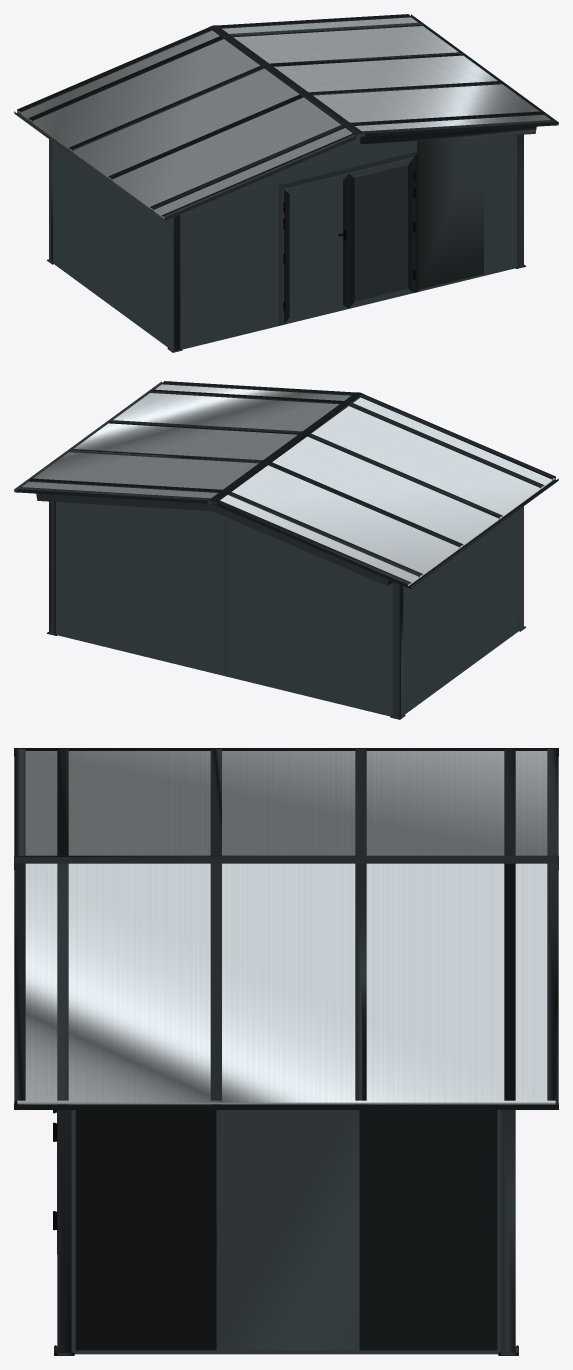
3 views of the same model, one above another, from view 1: azimuth 30°, elevation 25°; view 2: azimuth 150°, elevation 25°; view 3: azimuth 270°, elevation 25° (orthographic). The views are drawn at different scales.
Parts seen in each view (by area): view 1: priximbattable_net_abris_de_jardin_640004_abri_de_jardin_orc, folha, folha_2, porta_dupla; view 2: priximbattable_net_abris_de_jardin_640004_abri_de_jardin_orc; view 3: priximbattable_net_abris_de_jardin_640004_abri_de_jardin_orc.
Boxes of the visible parts, x1,y1,x2,y2 form: priximbattable_net_abris_de_jardin_640004_abri_de_jardin_orc: (14, 14, 558, 352); folha: (348, 157, 415, 308); folha_2: (283, 173, 348, 324); porta_dupla: (278, 151, 418, 325); priximbattable_net_abris_de_jardin_640004_abri_de_jardin_orc: (14, 381, 558, 719); priximbattable_net_abris_de_jardin_640004_abri_de_jardin_orc: (14, 748, 558, 1355).
Size of the model in its own units: 589 by 261 by 380.
1 material, 1 textured.
